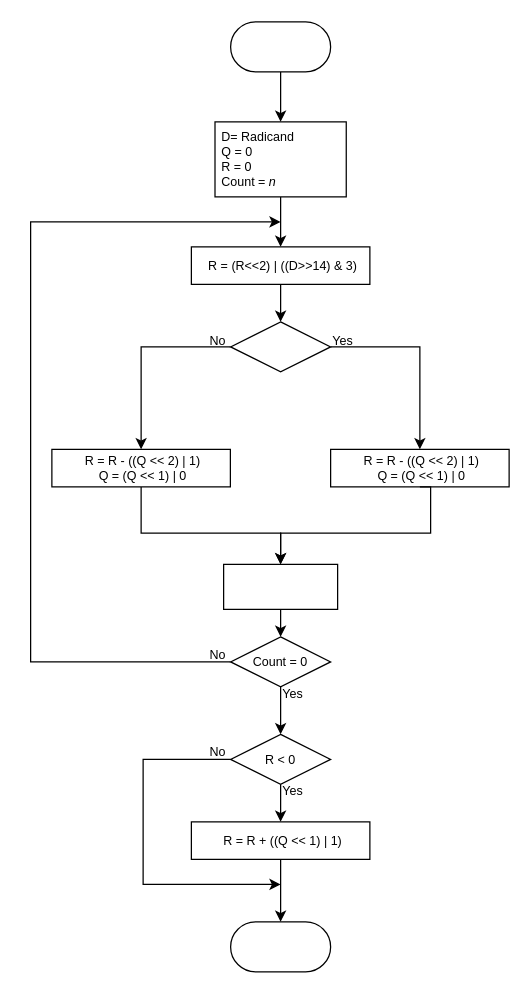
The diagram is 531 pixels wide and 994 high, and some of its shapes have lost their labels. The box of each missing label's shape, as (x1, y1, x2, y2) in pixels:
D = D << 2 Count = Count -1: (222, 563, 338, 609)
END: (229, 921, 331, 972)
R ≥ 0: (229, 321, 331, 372)
START: (229, 21, 331, 72)
